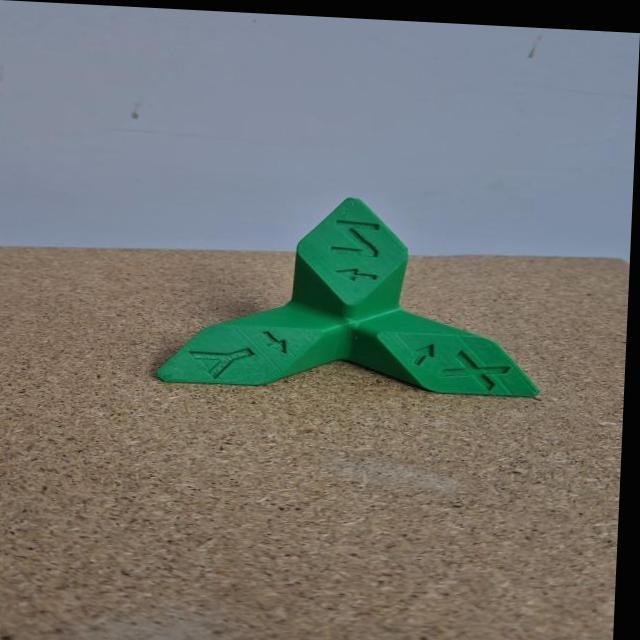eje: (149, 183, 555, 405)
